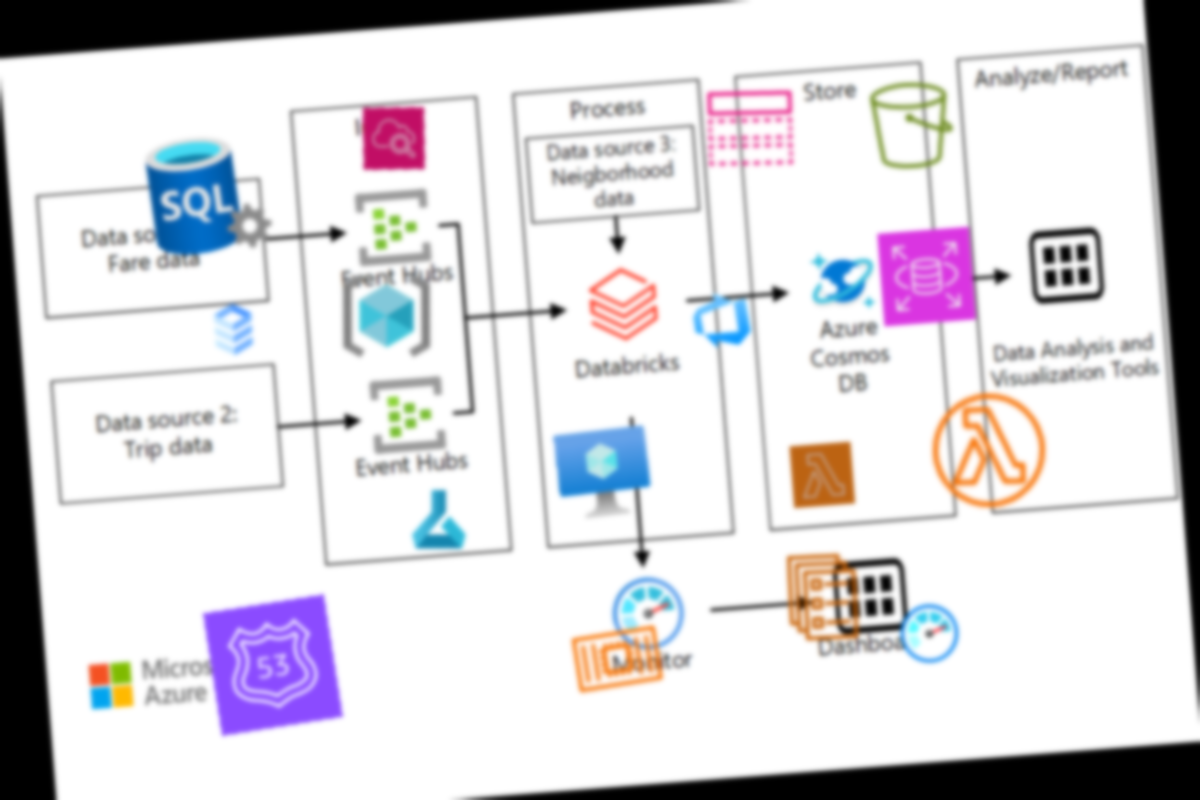aws_amazon_cloudwatch: (358, 103, 428, 173)
aws_amazon_rds: (876, 225, 976, 327)
aws_amazon_route_53: (202, 593, 343, 736)
aws_elastic_container_service_container_2: (563, 604, 670, 712)
aws_elastic_container_service_service: (771, 545, 874, 649)
aws_lambda: (788, 440, 856, 509)
aws_lambda_lambda_function: (920, 380, 1057, 519)
aws_simple_notification_service_topic: (697, 75, 802, 181)
aws_simple_storage_service_bucket: (860, 73, 963, 177)
azure_devops: (685, 283, 757, 356)
azure_machine_learning: (402, 482, 474, 555)
azure_monitor: (894, 598, 964, 668)
azure_resource_groups: (333, 261, 439, 369)
azure_sql_server: (137, 122, 279, 266)
azure_virtual_machine: (552, 423, 655, 527)
gcp_cloud_sql: (199, 295, 267, 363)
